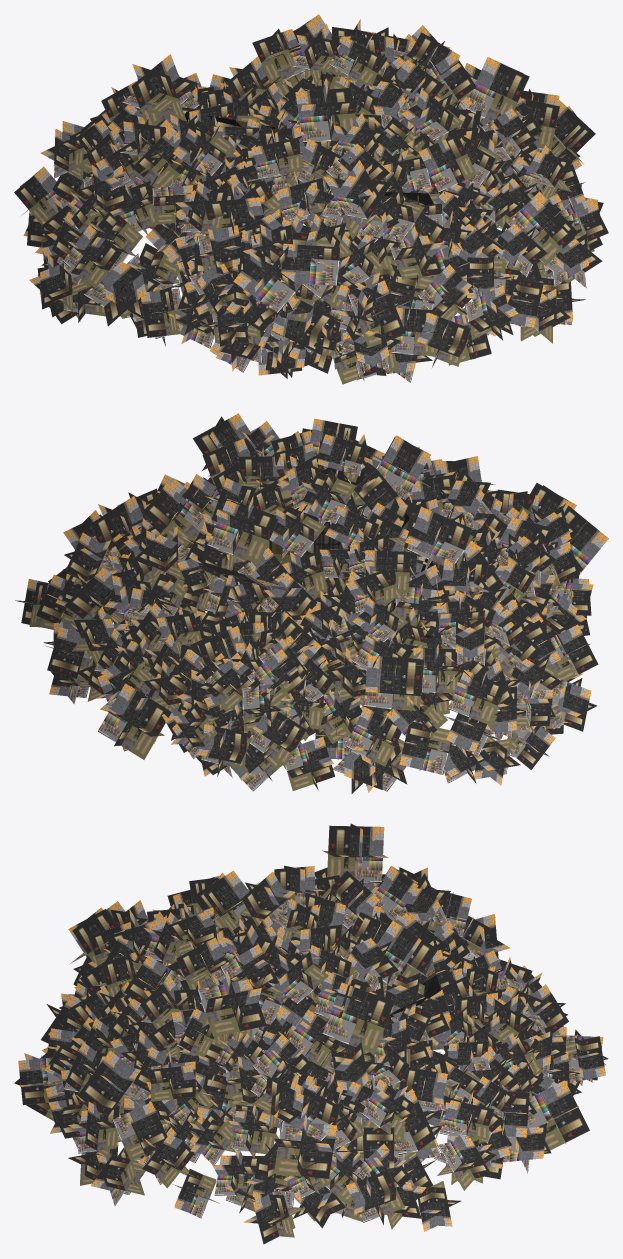
Rendered from meadow_SM_Env_Bush_02.gltf.
The picture shows the model from 3 angles, top to bottom: view 1: azimuth 30°, elevation 25°; view 2: azimuth 150°, elevation 25°; view 3: azimuth 270°, elevation 25°; orthographic projection.
Visible parts, largest first — view 1: SM_Env_Bush_02_Leaves_LOD0, SM_Env_Bush_02_Branches_LOD0; view 2: SM_Env_Bush_02_Leaves_LOD0, SM_Env_Bush_02_Branches_LOD0; view 3: SM_Env_Bush_02_Leaves_LOD0, SM_Env_Bush_02_Branches_LOD0.
Part boxes in pixels (x1,y1,x2,y2): SM_Env_Bush_02_Leaves_LOD0: [14, 14, 608, 384]; SM_Env_Bush_02_Branches_LOD0: [129, 71, 498, 260]; SM_Env_Bush_02_Leaves_LOD0: [15, 413, 608, 793]; SM_Env_Bush_02_Branches_LOD0: [197, 467, 432, 672]; SM_Env_Bush_02_Leaves_LOD0: [14, 823, 608, 1244]; SM_Env_Bush_02_Branches_LOD0: [167, 913, 477, 1087].
Size of what is drawn, in the model's own units: 4.95 by 2.33 by 4.7.
2 materials, 2 textured.
